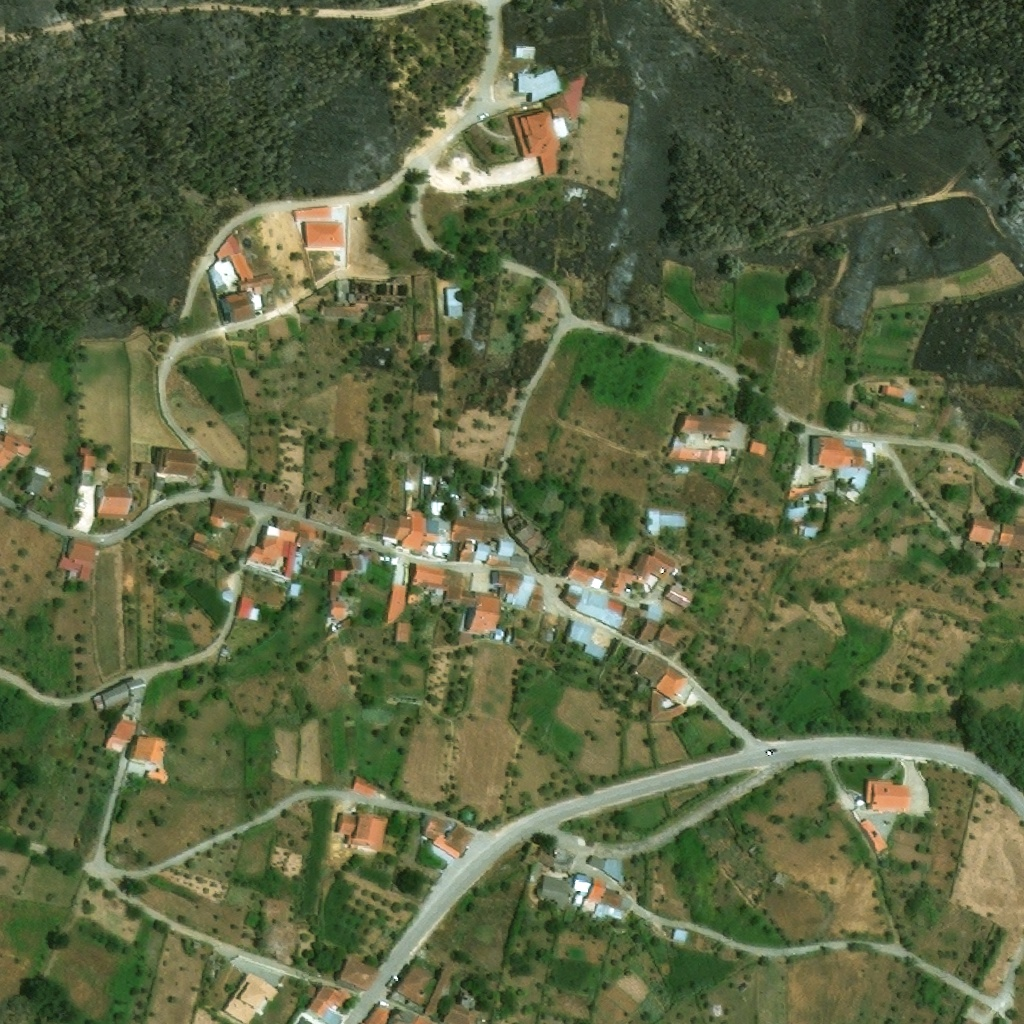0 no-damage: (214, 233, 274, 294), (604, 550, 677, 596), (512, 108, 561, 173), (223, 972, 278, 1023), (248, 529, 302, 579), (564, 584, 624, 628), (571, 877, 632, 920), (337, 807, 389, 854), (492, 571, 543, 612), (56, 537, 98, 581), (421, 814, 461, 858), (422, 502, 451, 558), (395, 965, 435, 1004), (816, 437, 866, 468), (567, 620, 606, 659), (518, 69, 564, 102), (308, 984, 353, 1016), (21, 464, 62, 499), (514, 521, 551, 559), (561, 69, 588, 120), (439, 567, 475, 605), (466, 594, 500, 632), (424, 969, 452, 1015), (340, 958, 380, 990), (866, 779, 910, 808), (96, 483, 132, 517), (636, 652, 669, 689), (668, 435, 713, 461), (649, 689, 687, 719), (0, 434, 32, 469), (645, 509, 684, 537), (309, 501, 351, 527), (787, 476, 834, 499), (453, 518, 501, 540), (210, 499, 250, 525), (540, 876, 570, 909), (308, 222, 346, 248), (259, 481, 299, 505), (132, 735, 166, 763), (860, 818, 888, 852), (838, 465, 872, 493), (225, 291, 255, 322), (656, 667, 686, 698), (680, 414, 733, 431), (161, 449, 195, 474), (401, 516, 426, 550), (445, 824, 475, 852), (542, 846, 573, 873), (410, 561, 440, 588), (361, 1000, 395, 1023), (100, 683, 130, 709), (998, 517, 1023, 548), (388, 583, 406, 623), (531, 284, 557, 311), (664, 585, 693, 609), (933, 402, 955, 433), (442, 1001, 472, 1023), (466, 499, 496, 521), (110, 718, 137, 742), (638, 617, 661, 644), (970, 518, 995, 542), (658, 623, 684, 646), (570, 562, 595, 585), (351, 776, 377, 798), (428, 843, 455, 864), (601, 859, 625, 882), (208, 265, 228, 291), (231, 526, 251, 551), (297, 521, 322, 541), (447, 288, 463, 318), (233, 478, 254, 498), (547, 95, 567, 116), (786, 506, 809, 524), (553, 115, 570, 138), (843, 485, 860, 506), (237, 595, 253, 617), (363, 515, 382, 533), (349, 554, 366, 574), (128, 677, 146, 695), (383, 518, 399, 538), (475, 542, 491, 562), (398, 516, 411, 540), (880, 386, 905, 398), (460, 543, 475, 563), (331, 601, 346, 620), (106, 738, 125, 753), (498, 540, 514, 557), (82, 454, 97, 472), (336, 281, 349, 301), (750, 441, 767, 456), (772, 872, 789, 887), (486, 554, 509, 565), (415, 327, 433, 341), (593, 564, 608, 580), (396, 622, 408, 642), (587, 855, 604, 869), (1002, 565, 1023, 576), (516, 46, 535, 58), (146, 768, 165, 780), (92, 695, 105, 712), (421, 475, 431, 496), (153, 477, 166, 493), (204, 547, 220, 560), (672, 929, 687, 942), (340, 536, 352, 551), (903, 389, 914, 405), (289, 583, 301, 597), (711, 432, 729, 441), (510, 557, 526, 567), (712, 450, 725, 462), (139, 463, 151, 476), (267, 525, 279, 538), (329, 570, 341, 582), (522, 853, 534, 865), (804, 527, 818, 537), (208, 516, 219, 527), (194, 532, 206, 542), (305, 985, 315, 997), (459, 632, 471, 641), (327, 624, 337, 634), (494, 629, 503, 640), (330, 584, 336, 600), (219, 648, 228, 658), (342, 618, 352, 627), (347, 293, 355, 302), (80, 447, 91, 453), (674, 466, 682, 473), (482, 482, 489, 490), (462, 499, 469, 507), (405, 482, 411, 491), (391, 558, 397, 565)
3 destroyed: (355, 279, 405, 302), (563, 185, 585, 199)
4 un-classified: (290, 1009, 319, 1023), (1015, 458, 1023, 477)
